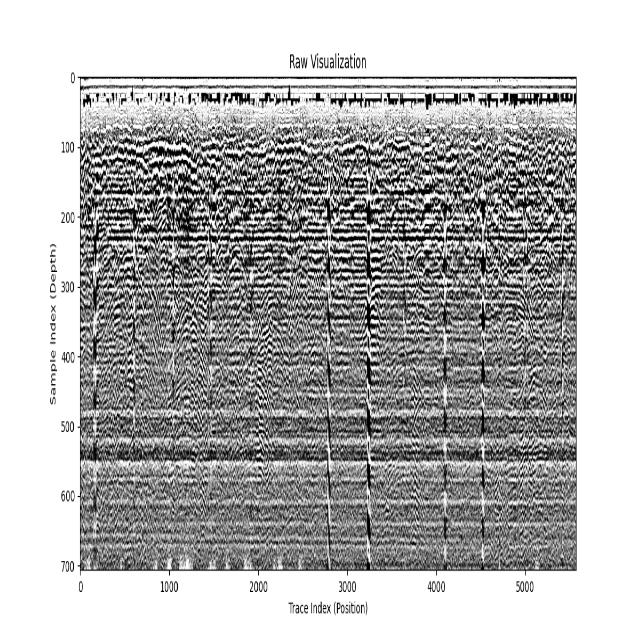anomaly: (489, 275, 554, 361), (238, 228, 260, 447), (87, 203, 100, 566), (323, 200, 335, 565), (126, 203, 142, 440), (364, 208, 374, 578), (206, 202, 217, 454), (479, 212, 486, 566), (442, 221, 449, 566), (169, 194, 177, 458), (400, 210, 410, 402), (522, 212, 529, 449), (561, 218, 565, 516)
